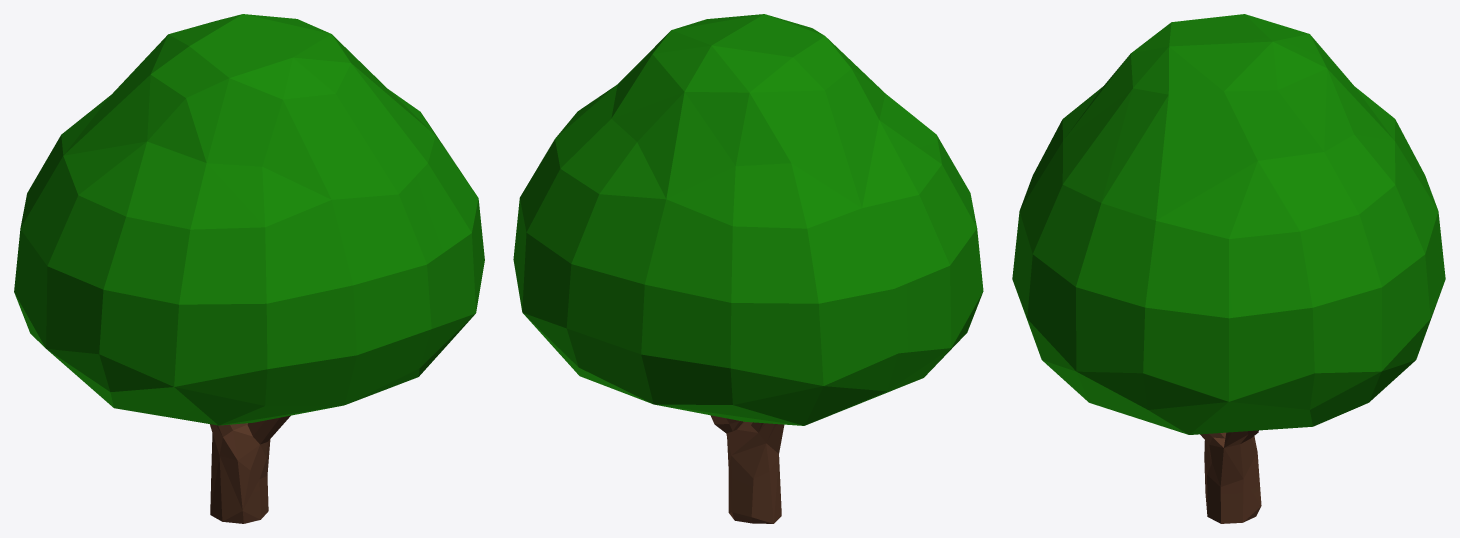
File: 3Stad.fbx
3 views of the same model, side by side, from view 1: azimuth 30°, elevation 25°; view 2: azimuth 150°, elevation 25°; view 3: azimuth 270°, elevation 25° (orthographic).
Parts seen in each view (by area): view 1: Cube.039; view 2: Cube.039; view 3: Cube.039.
Boxes of the visible parts, x1,y1,x2,y2 form: Cube.039: [14, 14, 484, 523]; Cube.039: [513, 14, 983, 523]; Cube.039: [1012, 14, 1445, 523].
Size of the model in its own units: 102 by 115 by 93.75.
